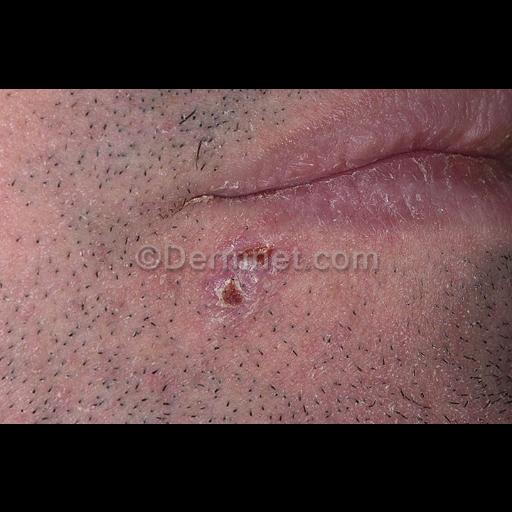Skin_Lesion: (224, 220, 290, 272), (192, 274, 250, 328)
